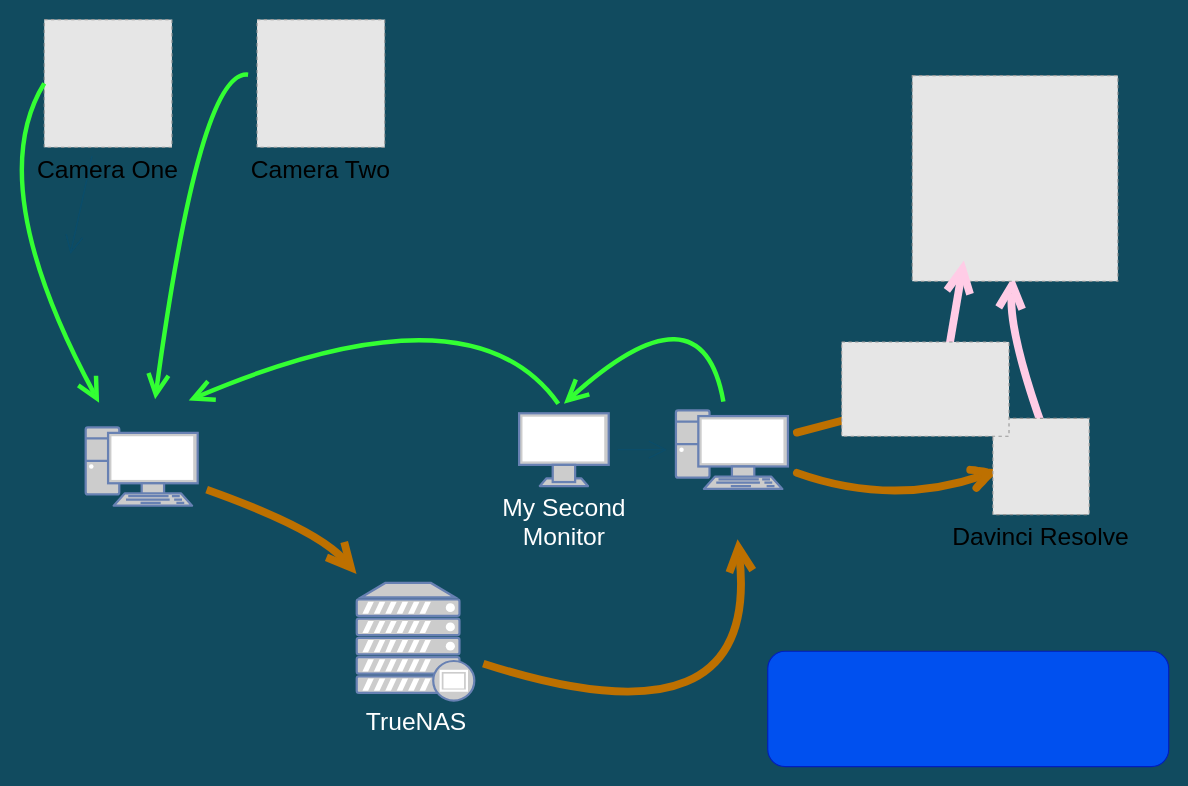
Image size: 1188x786. Some labels were removed from this diagram. Grey dashed boxes stand in for pictures. Here are the shapes that lost their labels. From the top down, the centre of each, then its label:
At point 141,466: "Studio Computer Running OBS".
At point 731,449: "My Computer".
At point 968,708: "My 2023 Content Production Workflow".
